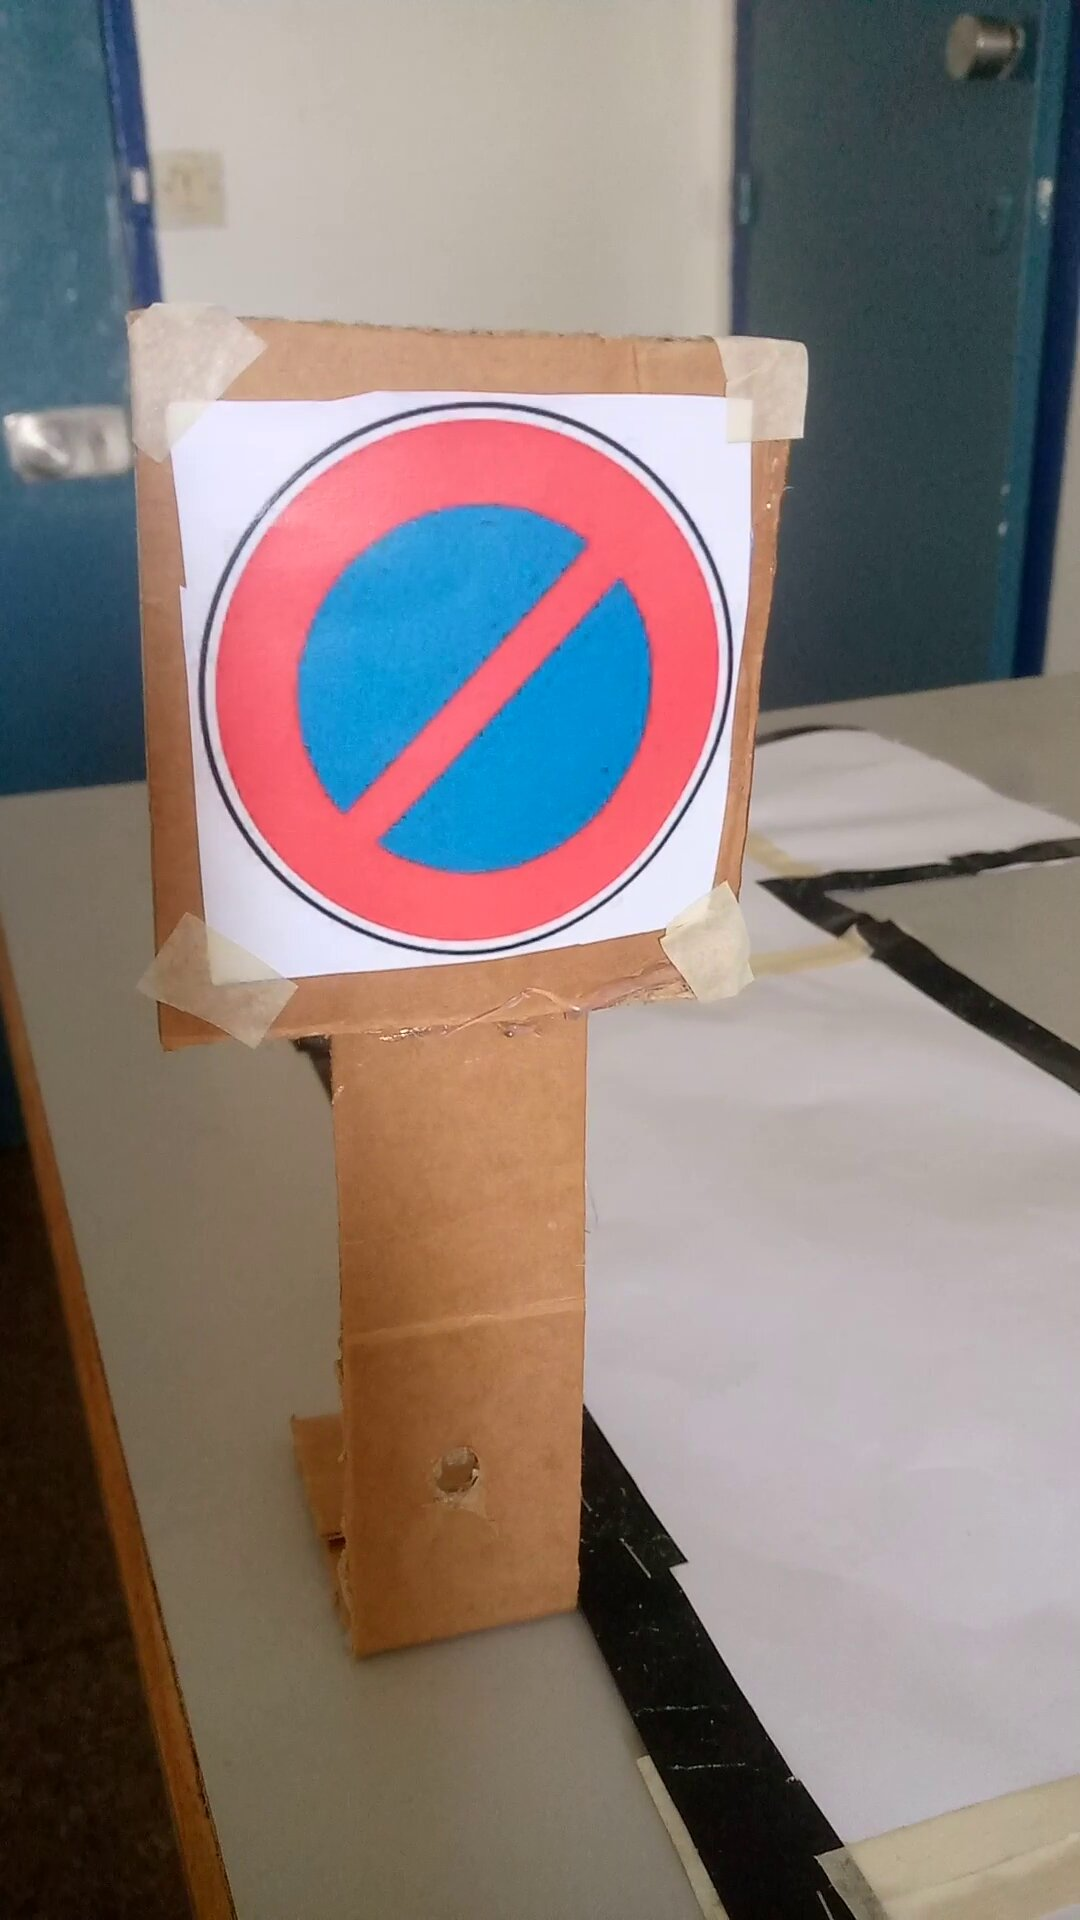panel110: (156, 375, 731, 963)
